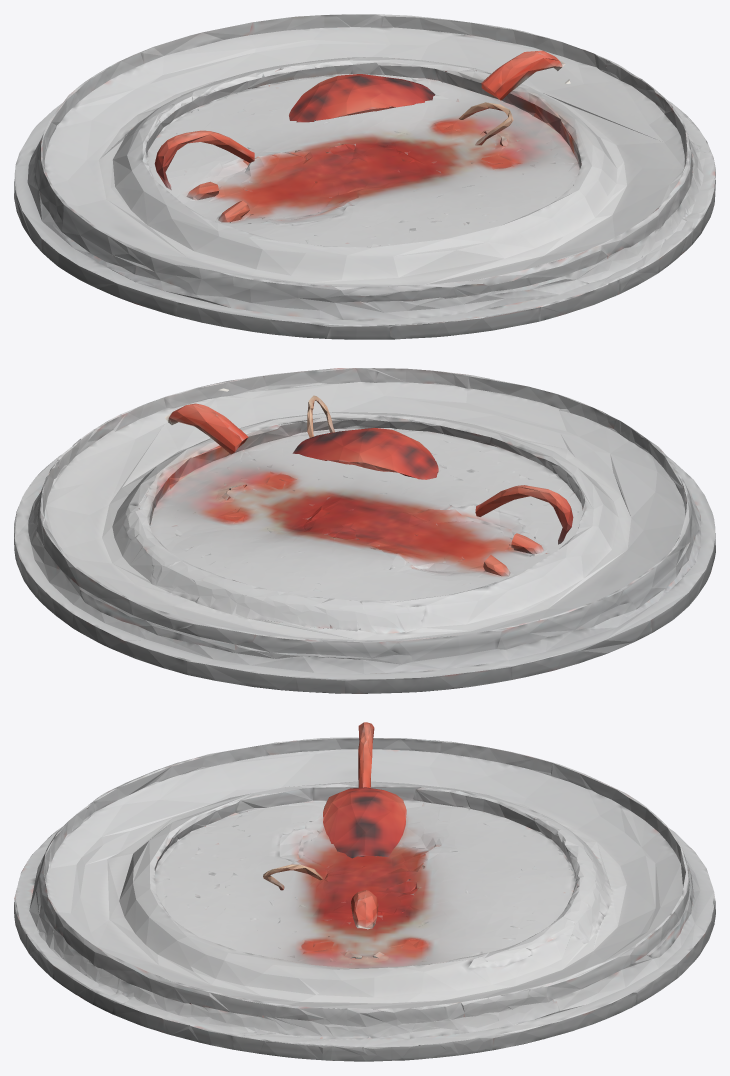
The model's file is seafood.glb.
3 views of the same model, one above another, from view 1: azimuth 30°, elevation 25°; view 2: azimuth 150°, elevation 25°; view 3: azimuth 270°, elevation 25° (orthographic).
Parts seen in each view (by area): view 1: world; view 2: world; view 3: world.
Boxes of the visible parts, box(x1,y1,x2,y2) form: world: box(14, 14, 715, 339); world: box(14, 368, 715, 693); world: box(14, 722, 715, 1061).
Bounding box in the file's own units: 0.9949 × 0.1786 × 0.9926.
Materials: 1 (1 with a texture image).
